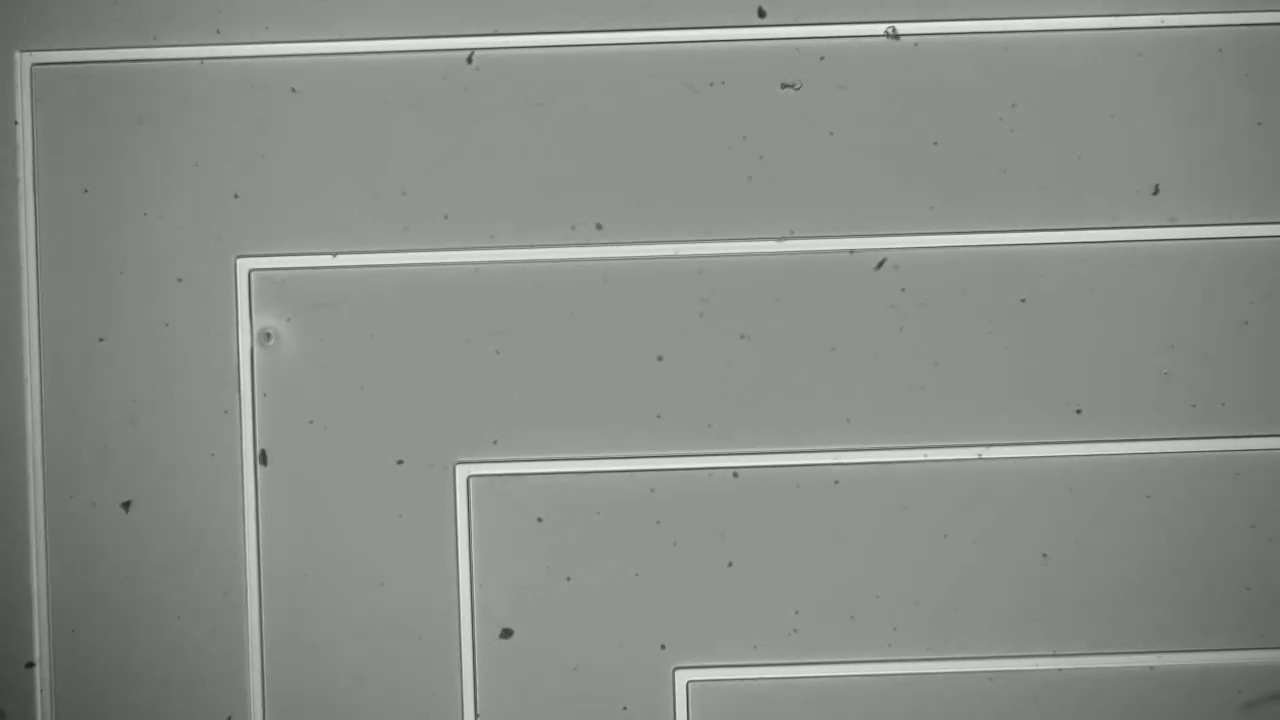stains_enbedded: (873, 12, 918, 52)
